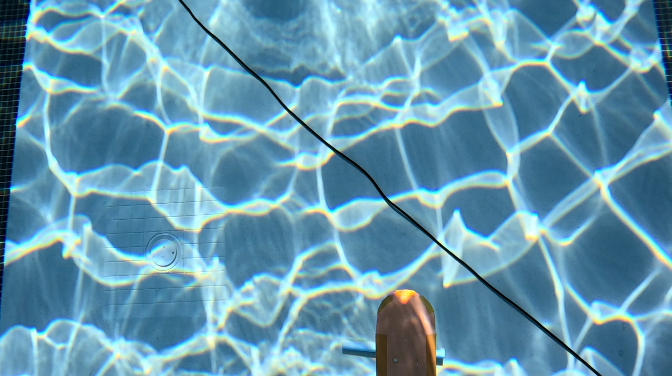pathmarker: (375, 290, 436, 375)
